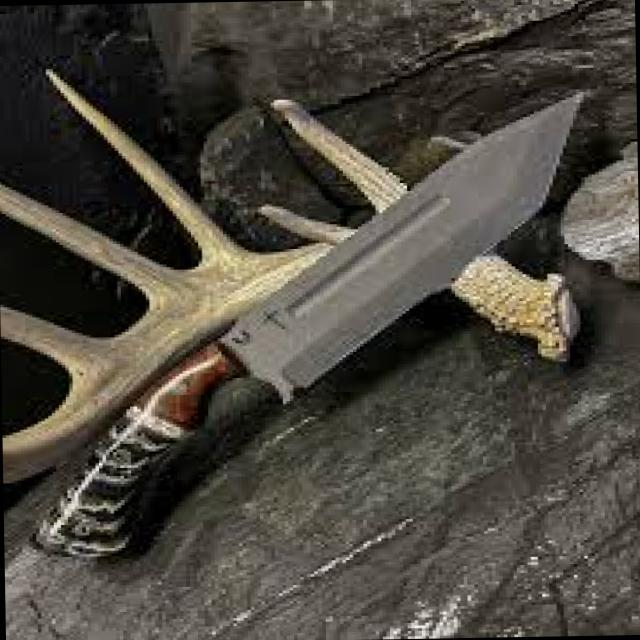Gun: (21, 66, 640, 568)
